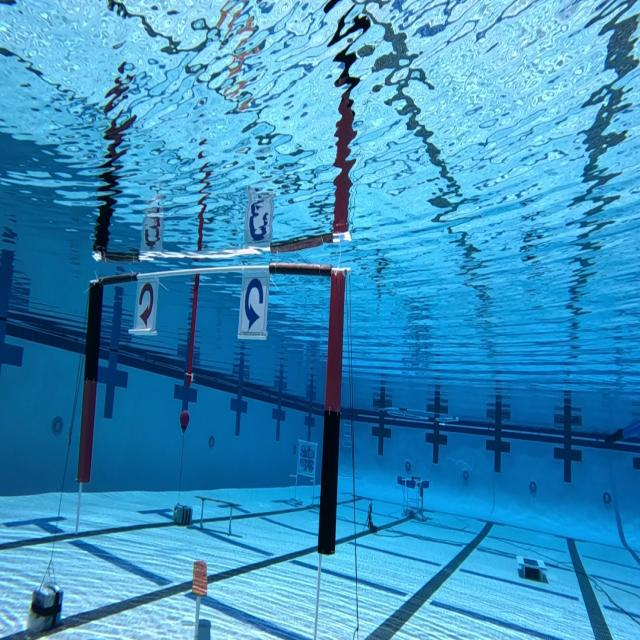blue_side: (234, 266, 274, 348)
red_side: (127, 272, 166, 336)
